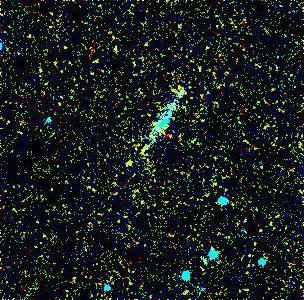star: (118, 148, 148, 178)
